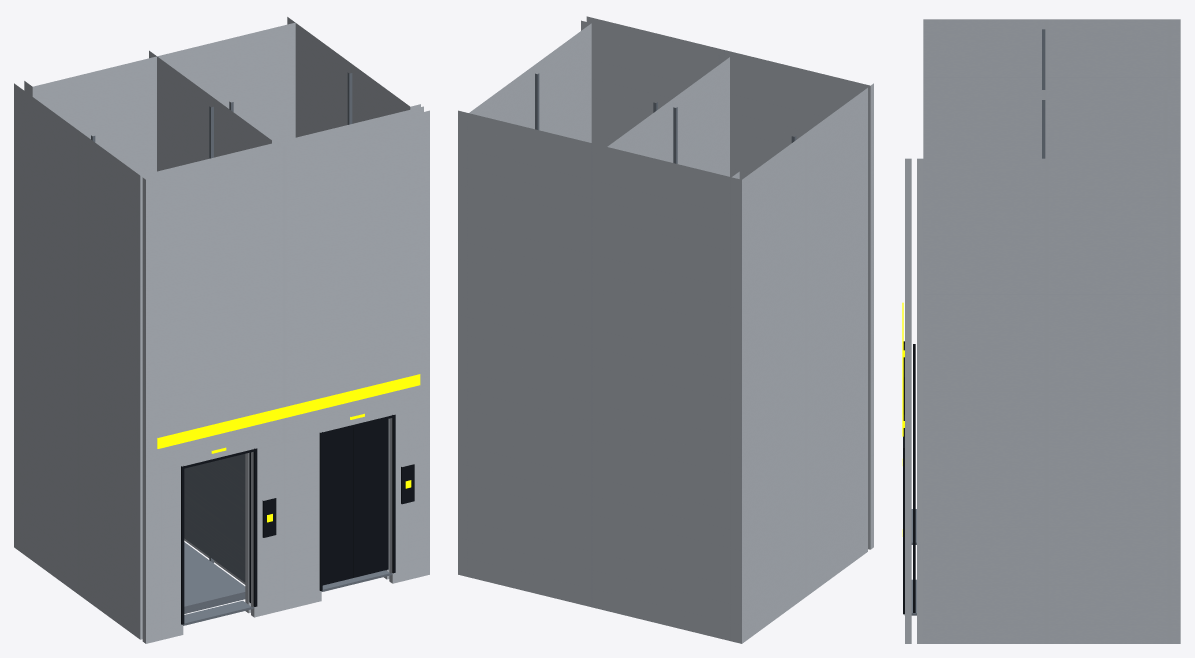
Rendered from tt_lift_core.glb.
The picture shows the model from 3 angles, left to right: view 1: azimuth 30°, elevation 25°; view 2: azimuth 150°, elevation 25°; view 3: azimuth 270°, elevation 25°; orthographic projection. The views are drawn at different scales.
Parts seen in each view (by area): view 1: Door_Wall, Shaft_Walls, Landing_Doors, Lift_Car, Door_Jambs, Floor_Indicator_Band, Sills, Call_Panels, Guide_Rails; view 2: Shaft_Walls, Door_Wall, Guide_Rails; view 3: Shaft_Walls, Door_Wall, Landing_Doors, Guide_Rails, Door_Jambs.
Boxes of the visible parts, x1,y1,x2,y2 form: Door_Wall: (137, 106, 429, 643); Shaft_Walls: (14, 17, 420, 636); Landing_Doors: (249, 419, 388, 602); Lift_Car: (184, 454, 245, 613); Door_Jambs: (181, 414, 395, 624); Floor_Indicator_Band: (157, 374, 420, 448); Sills: (183, 570, 392, 625); Call_Panels: (262, 464, 414, 537); Guide_Rails: (91, 72, 352, 563); Shaft_Walls: (458, 23, 864, 643); Door_Wall: (581, 16, 873, 553); Guide_Rails: (535, 73, 796, 163); Shaft_Walls: (923, 19, 1180, 643); Door_Wall: (905, 158, 923, 643); Landing_Doors: (913, 344, 915, 612); Guide_Rails: (1042, 29, 1045, 158); Door_Jambs: (903, 341, 904, 614).
Size of the model in its own units: 4 by 6.25 by 3.25.
4 materials, 3 textured.
